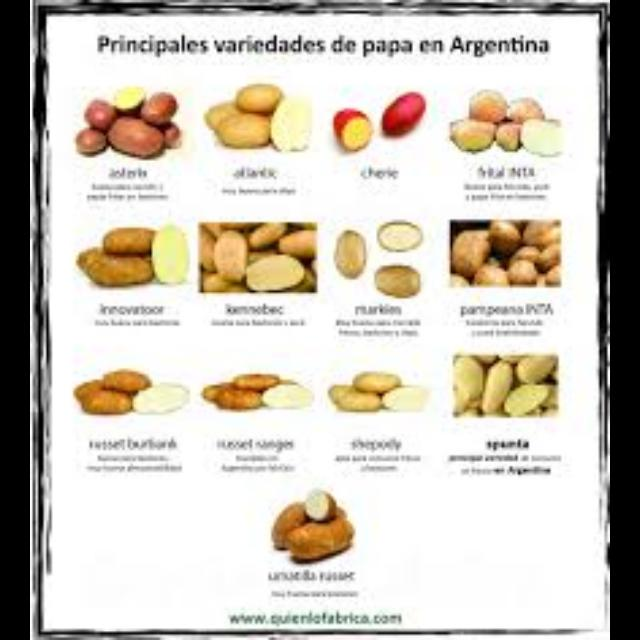Defected potato: (102, 116, 164, 158), (382, 89, 426, 139)
Diseased-fungal potato: (214, 230, 253, 286), (370, 262, 424, 298), (335, 228, 369, 282), (468, 87, 510, 127)
Potato: (214, 112, 270, 148), (238, 82, 284, 111)
